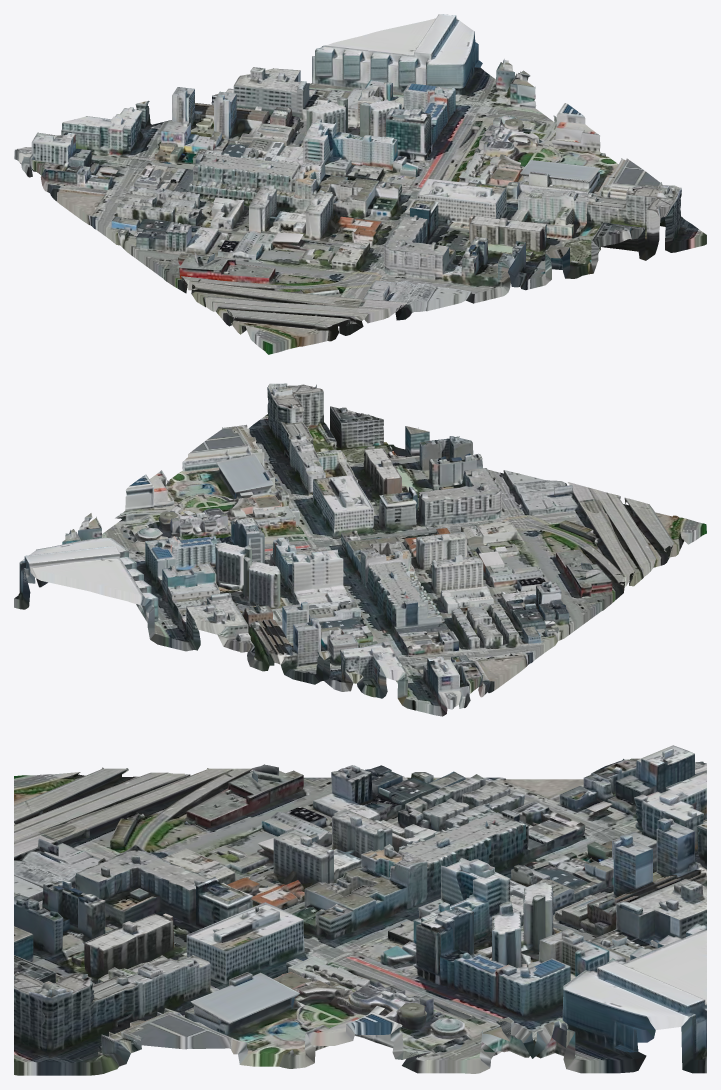
File: z16-10485-25329-h0-yup-uvflip-v3-world.glb
3 renders of one model, top to bottom at view 1: azimuth 30°, elevation 25°; view 2: azimuth 150°, elevation 25°; view 3: azimuth 270°, elevation 25°, orthographic. The views are drawn at different scales.
Bounding box in the file's own units: 483 × 60.8 × 485.
Materials: 1 (1 with a texture image).
